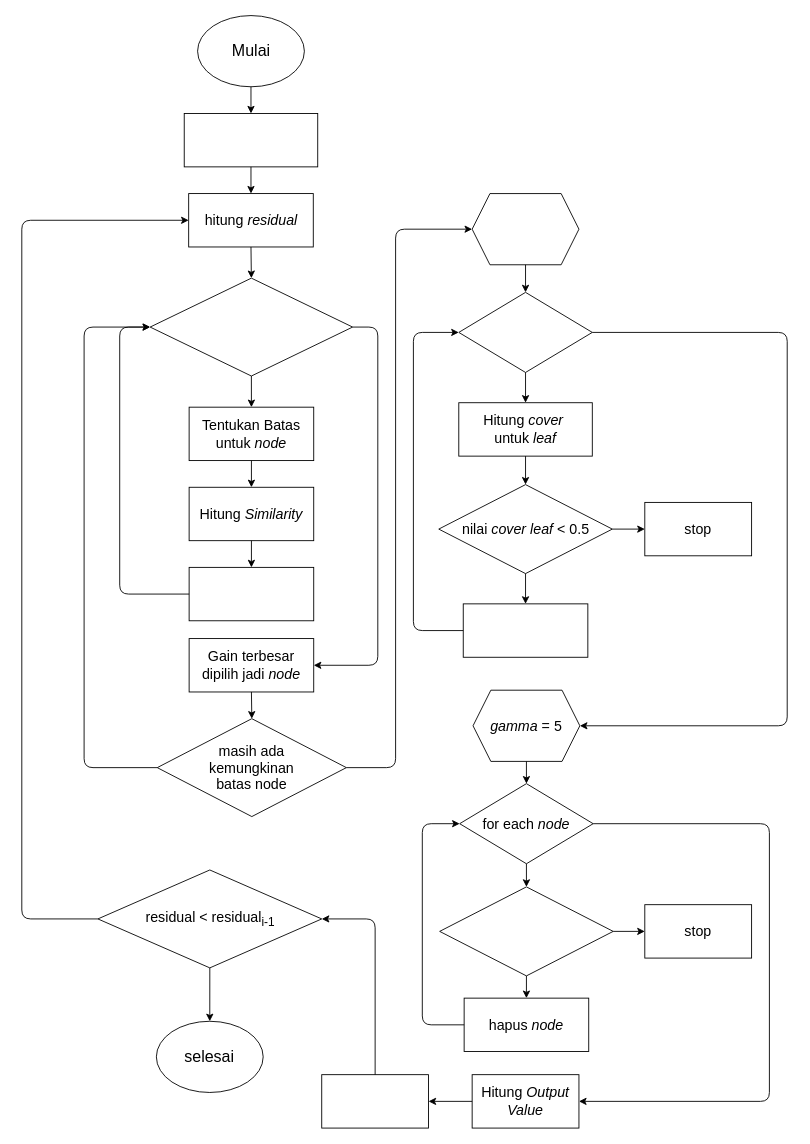
Some shapes in this 810 by 1144 pixel diagram are drawn without their labels. The centre of each missing label's shape, as x and y in pixels:
"cover = 0.5" goes at (x=525, y=229).
"for each kemungkinan batas node" goes at (x=251, y=326).
"for each leaf" goes at (x=525, y=331).
"Gain - Gamma = negative (-)" goes at (x=526, y=931).
"hapus leaf" goes at (x=525, y=630).
"Hitung Gain" goes at (x=251, y=593).
"Hitung new probability" goes at (x=375, y=1101).
"set Initial Probability = 0.5" goes at (x=250, y=140).
